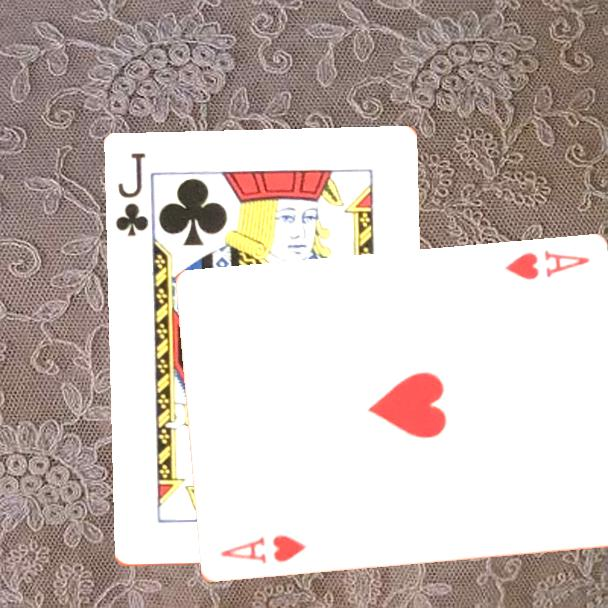c11: (112, 150, 152, 240)
h01: (501, 247, 592, 283), (217, 532, 309, 567)
